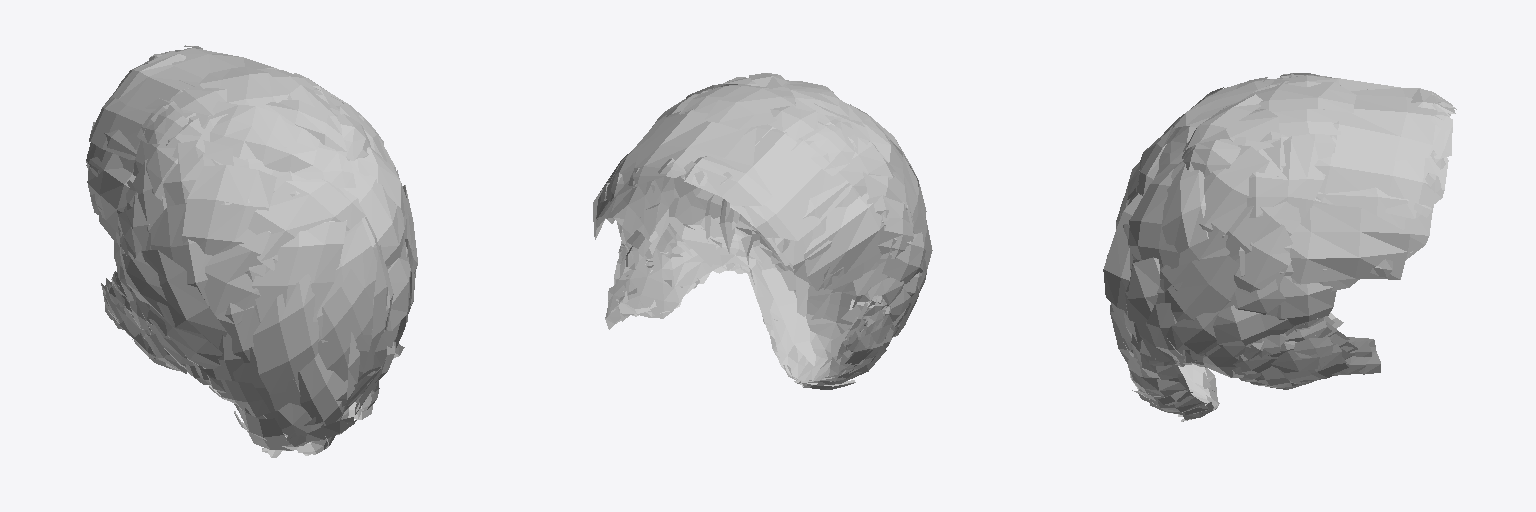
The model's file is hair_000_u_4.obj.
3 renders of one model, left to right at view 1: azimuth 30°, elevation 25°; view 2: azimuth 150°, elevation 25°; view 3: azimuth 270°, elevation 25°, orthographic.
Size of the model in its own units: 0.1904 by 0.2217 by 0.2158.